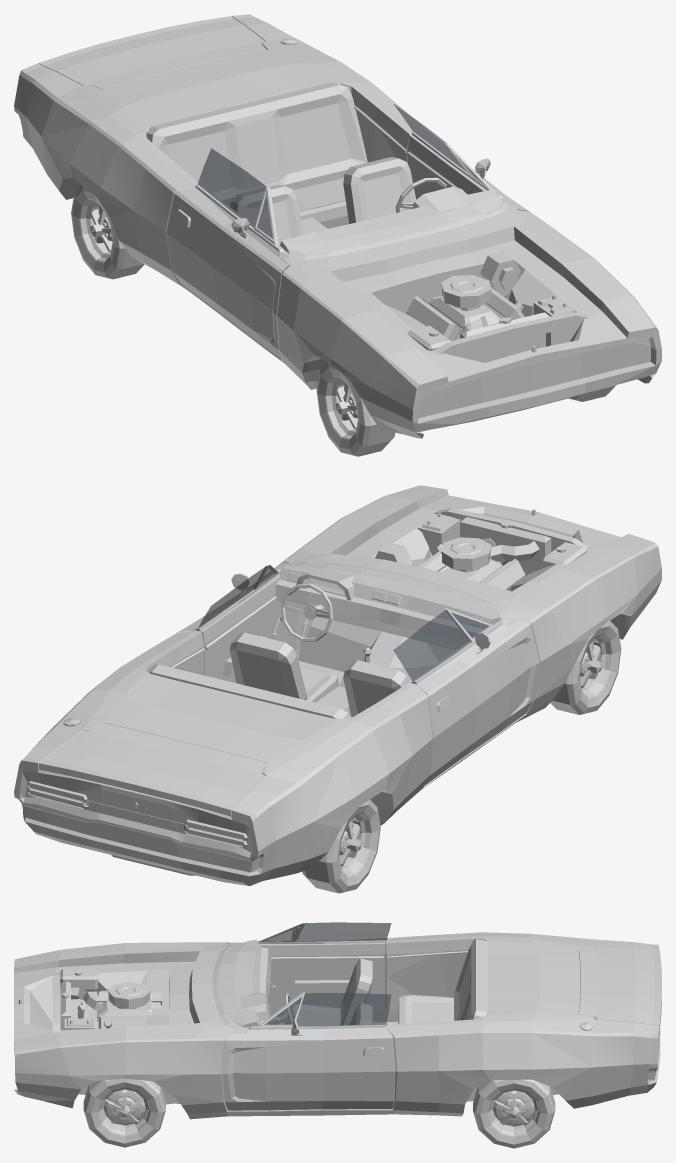
The model's file is Muscle_01_Base.glb.
3 renders of one model, top to bottom at view 1: azimuth 30°, elevation 25°; view 2: azimuth 150°, elevation 25°; view 3: azimuth 270°, elevation 25°, orthographic. The views are drawn at different scales.
Parts seen in each view (by area): view 1: SM_Veh_Muscle_01, SM_Veh_Muscle_01_Door_R, SM_Veh_Muscle_01_Boot, SM_Veh_Muscle_01_Wheel_fr, SM_Veh_Muscle_01_Door_L, SM_Veh_Muscle_01_Wheel_rr; view 2: SM_Veh_Muscle_01, SM_Veh_Muscle_01_Door_R, SM_Veh_Muscle_01_Boot, SM_Veh_Muscle_01_Door_L, SM_Veh_Muscle_01_Wheel_rr, SM_Veh_Muscle_01_Wheel_fr, SM_Veh_Muscle_01_SteeringW; view 3: SM_Veh_Muscle_01, SM_Veh_Muscle_01_Door_L, SM_Veh_Muscle_01_Door_R, SM_Veh_Muscle_01_Boot, SM_Veh_Muscle_01_Wheel_rl, SM_Veh_Muscle_01_Wheel_fl.
Part boxes in pixels (x1,y1,x2,y2): SM_Veh_Muscle_01: [14, 14, 661, 438]; SM_Veh_Muscle_01_Door_R: [166, 148, 288, 359]; SM_Veh_Muscle_01_Boot: [39, 16, 266, 89]; SM_Veh_Muscle_01_Wheel_fr: [316, 362, 395, 456]; SM_Veh_Muscle_01_Door_L: [393, 104, 530, 212]; SM_Veh_Muscle_01_Wheel_rr: [71, 185, 144, 279]; SM_Veh_Muscle_01: [14, 485, 661, 886]; SM_Veh_Muscle_01_Door_R: [393, 608, 539, 785]; SM_Veh_Muscle_01_Boot: [39, 723, 267, 816]; SM_Veh_Muscle_01_Door_L: [176, 562, 296, 682]; SM_Veh_Muscle_01_Wheel_rr: [302, 800, 380, 893]; SM_Veh_Muscle_01_Wheel_fr: [550, 620, 621, 714]; SM_Veh_Muscle_01_SteeringW: [281, 583, 333, 642]; SM_Veh_Muscle_01: [14, 932, 661, 1119]; SM_Veh_Muscle_01_Door_L: [222, 992, 395, 1110]; SM_Veh_Muscle_01_Door_R: [226, 922, 391, 1021]; SM_Veh_Muscle_01_Boot: [578, 948, 661, 1028]; SM_Veh_Muscle_01_Wheel_rl: [473, 1079, 555, 1148]; SM_Veh_Muscle_01_Wheel_fl: [83, 1079, 165, 1147].
Size of the model in its own units: 2.32 by 1.36 by 5.63.
